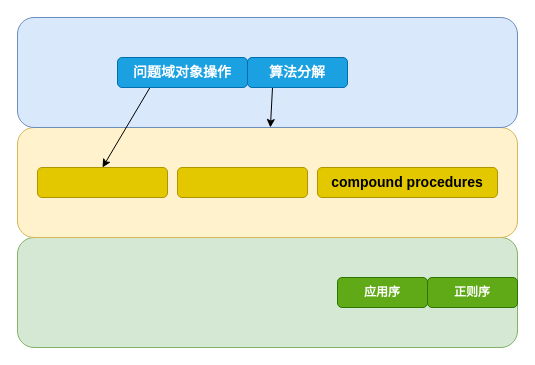
Some shapes in this 535 by 365 pixel diagram are drawn without their labels. Each missing label, with the box of its shape:
tree accumulation: (176, 166, 308, 198)
语言层基础对象操作: (36, 166, 168, 198)
